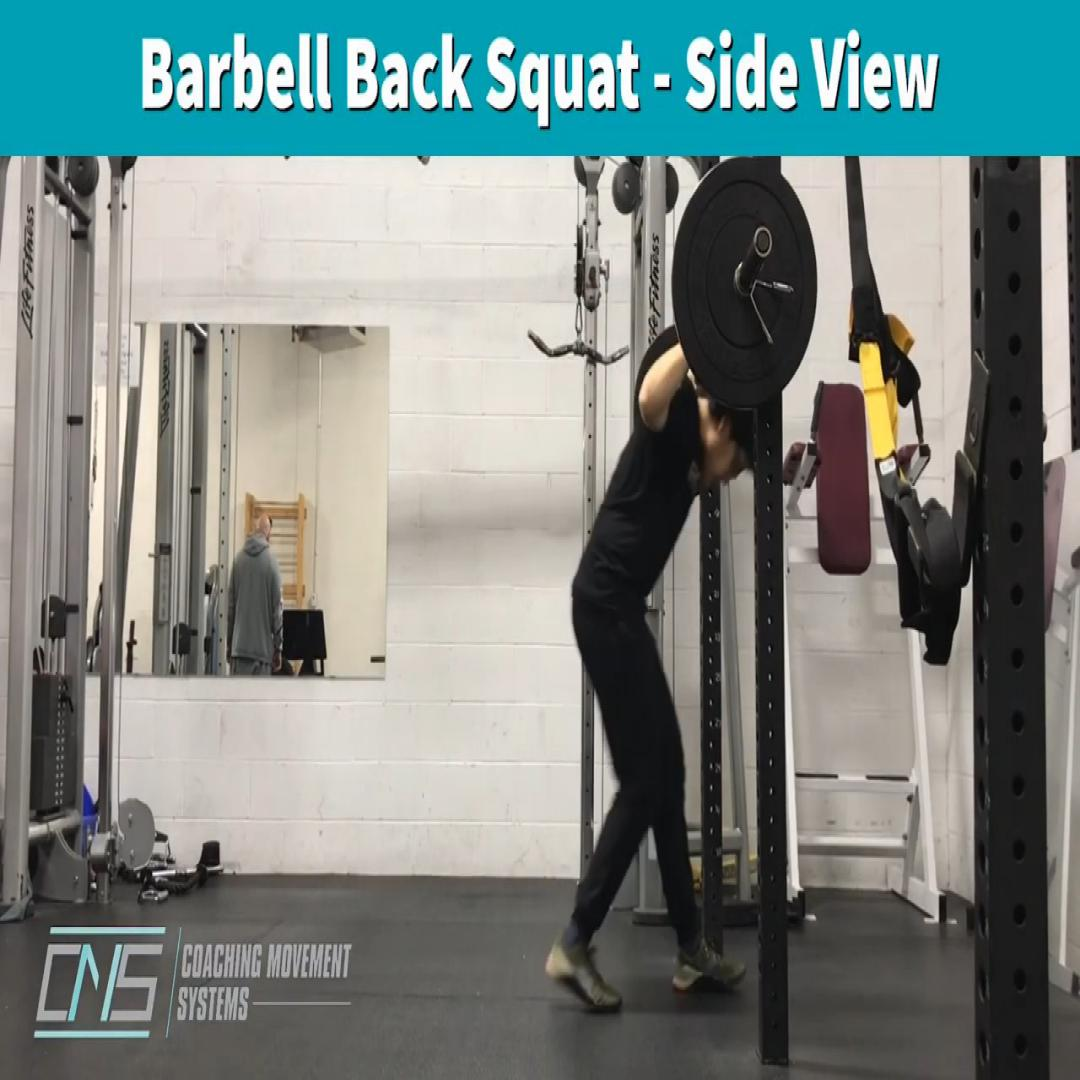Bar: (755, 226, 773, 256)
Barbell: (672, 158, 817, 408)
